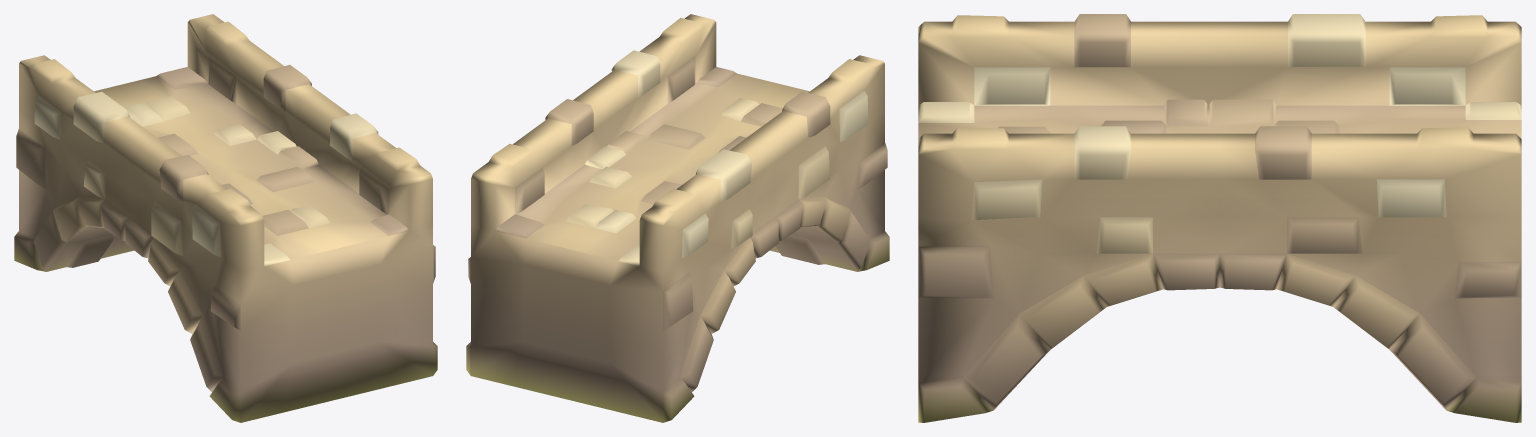
Rendered from bridge.fbx.
The picture shows the model from 3 angles, left to right: view 1: azimuth 30°, elevation 25°; view 2: azimuth 150°, elevation 25°; view 3: azimuth 270°, elevation 25°; orthographic projection. The views are drawn at different scales.
Parts seen in each view (by area): view 1: bridge; view 2: bridge; view 3: bridge.
Part boxes in pixels (x1,y1,x2,y2): bridge: (14,14,437,422); bridge: (466,14,889,422); bridge: (918,14,1521,422).
Bounding box in the file's own units: 428 × 412 × 800.
